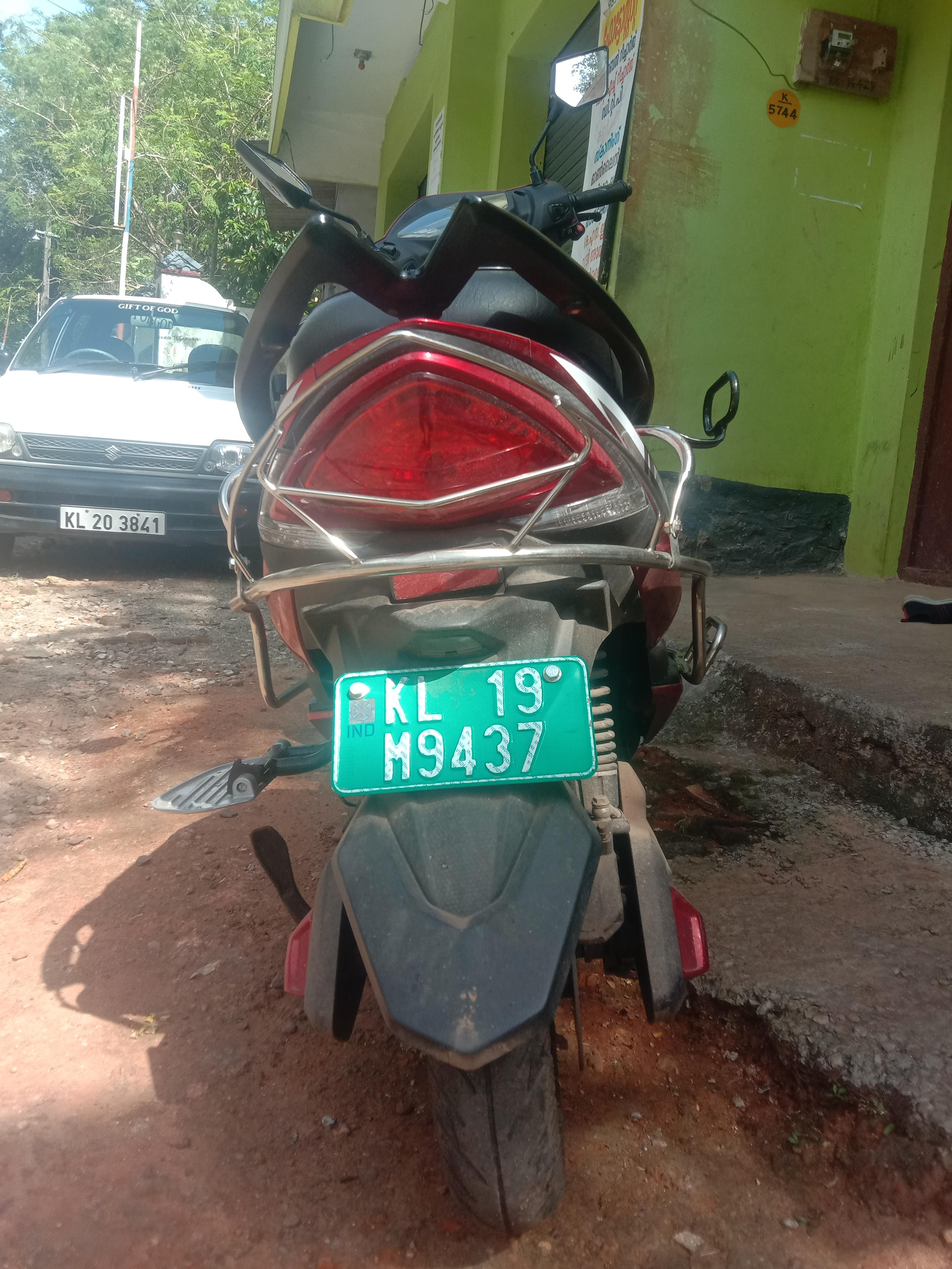green license plate: (328, 662, 599, 802), (54, 503, 178, 536)
